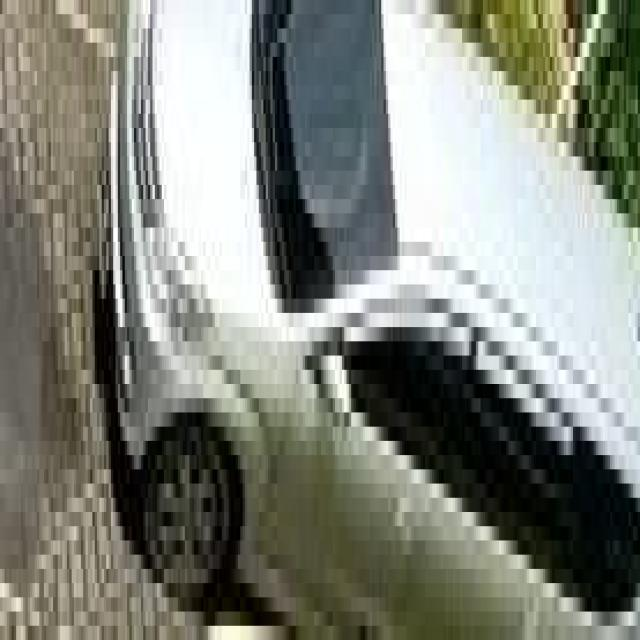Car: (128, 34, 577, 640)
